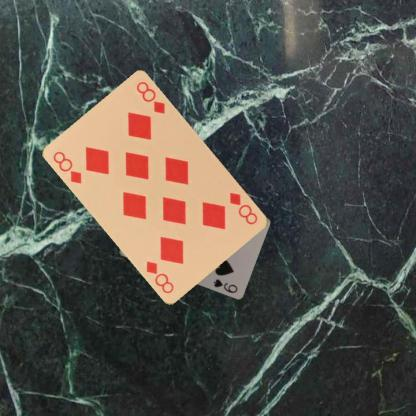8d: (51, 148, 84, 185), (227, 190, 259, 226)
